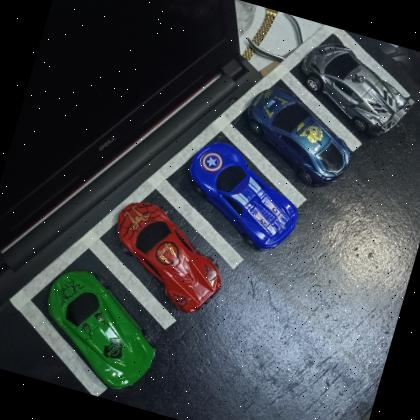Car: (28, 262, 174, 400), (97, 194, 237, 320), (172, 134, 313, 258), (232, 81, 362, 192), (290, 37, 420, 143)
